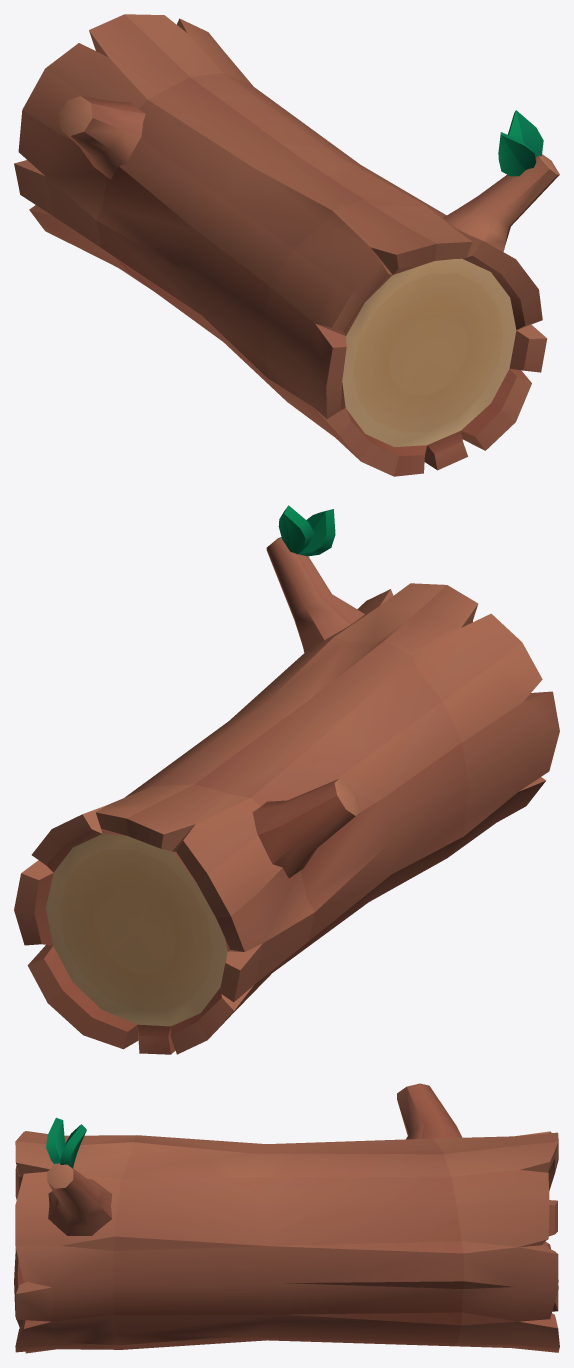
File: wood_log_a.glb
The picture shows the model from 3 angles, top to bottom: view 1: azimuth 30°, elevation 25°; view 2: azimuth 150°, elevation 25°; view 3: azimuth 270°, elevation 25°; orthographic projection. The views are drawn at different scales.
Visible parts, largest first — view 1: Wood_Log_A; view 2: Wood_Log_A; view 3: Wood_Log_A.
Part boxes in pixels (x1=…): Wood_Log_A: x1=14, y1=14, x2=559, y2=476; Wood_Log_A: x1=14, y1=505, x2=559, y2=1054; Wood_Log_A: x1=14, y1=1083, x2=559, y2=1353.
Size of the model in its own units: 0.7214 by 0.7334 by 1.35.
1 material, 1 textured.
